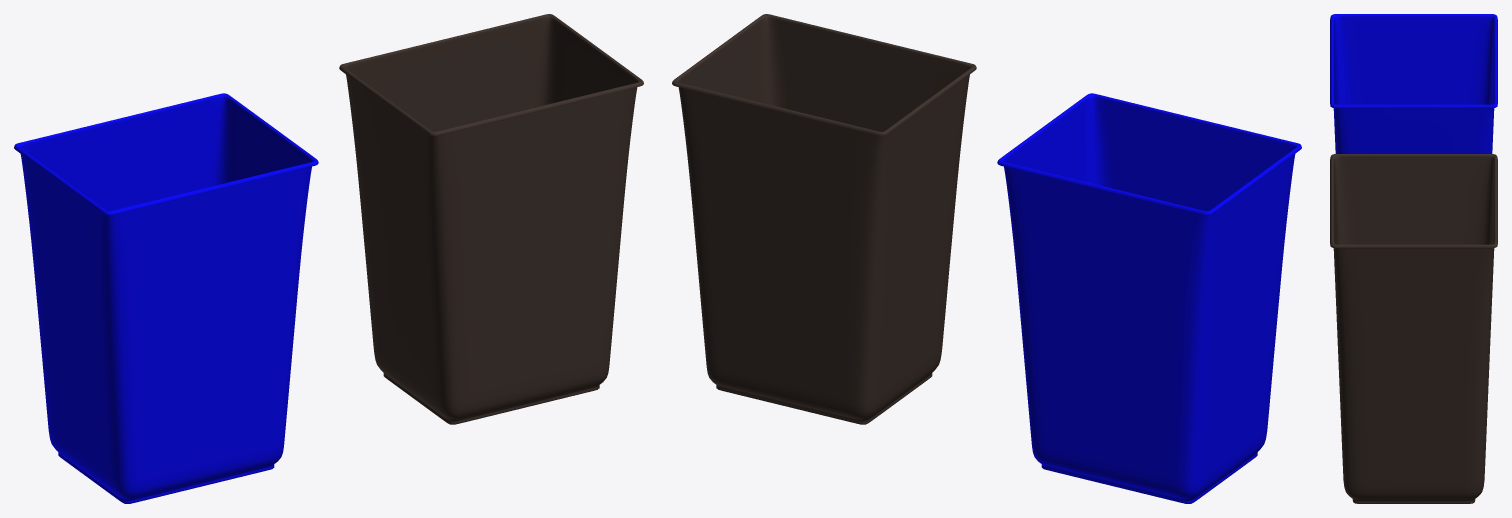
Rendered from Recycle_Trash_Bin_DAE.dae.
The picture shows the model from 3 angles, left to right: view 1: azimuth 30°, elevation 25°; view 2: azimuth 150°, elevation 25°; view 3: azimuth 270°, elevation 25°; orthographic projection. The views are drawn at different scales.
Parts seen in each view (by area): view 1: Trash_Bin, Recycling_Bin; view 2: Trash_Bin, Recycling_Bin; view 3: Trash_Bin, Recycling_Bin.
Part boxes in pixels (x1,y1,x2,y2): Trash_Bin: (339,14,643,424); Recycling_Bin: (14,93,318,503); Trash_Bin: (672,14,976,424); Recycling_Bin: (997,93,1301,503); Trash_Bin: (1330,154,1497,503); Recycling_Bin: (1330,14,1497,153).
Size of what is drawn, in the model's own units: 1.68 by 0.5123 by 0.9169.
